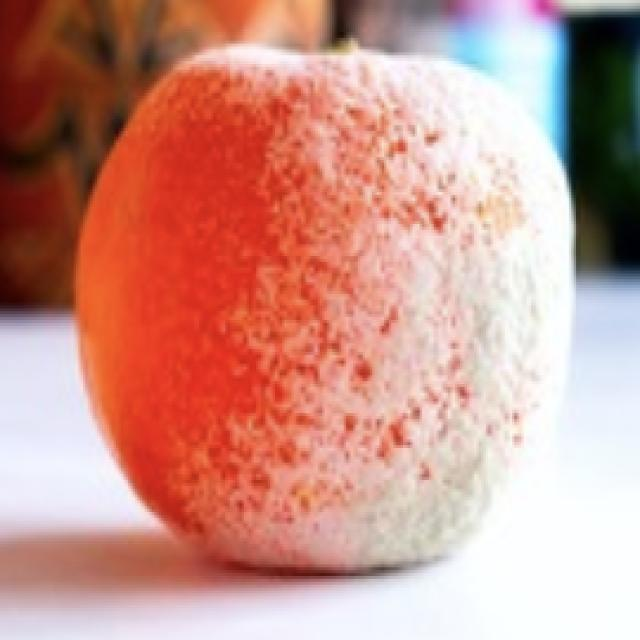sangat-busuk: (78, 56, 564, 556)
